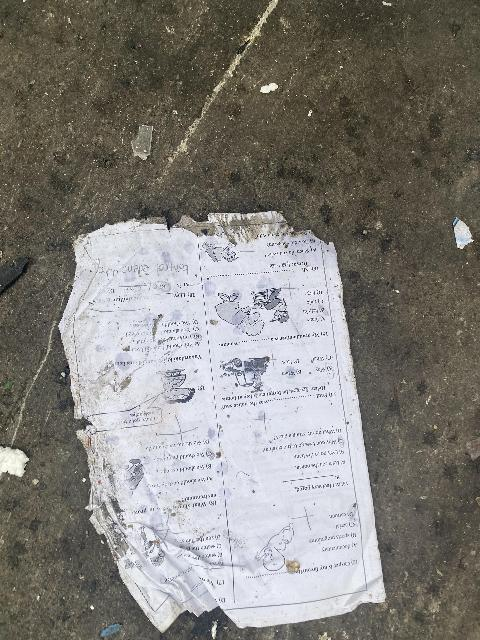Kagit: (58, 210, 393, 631)
